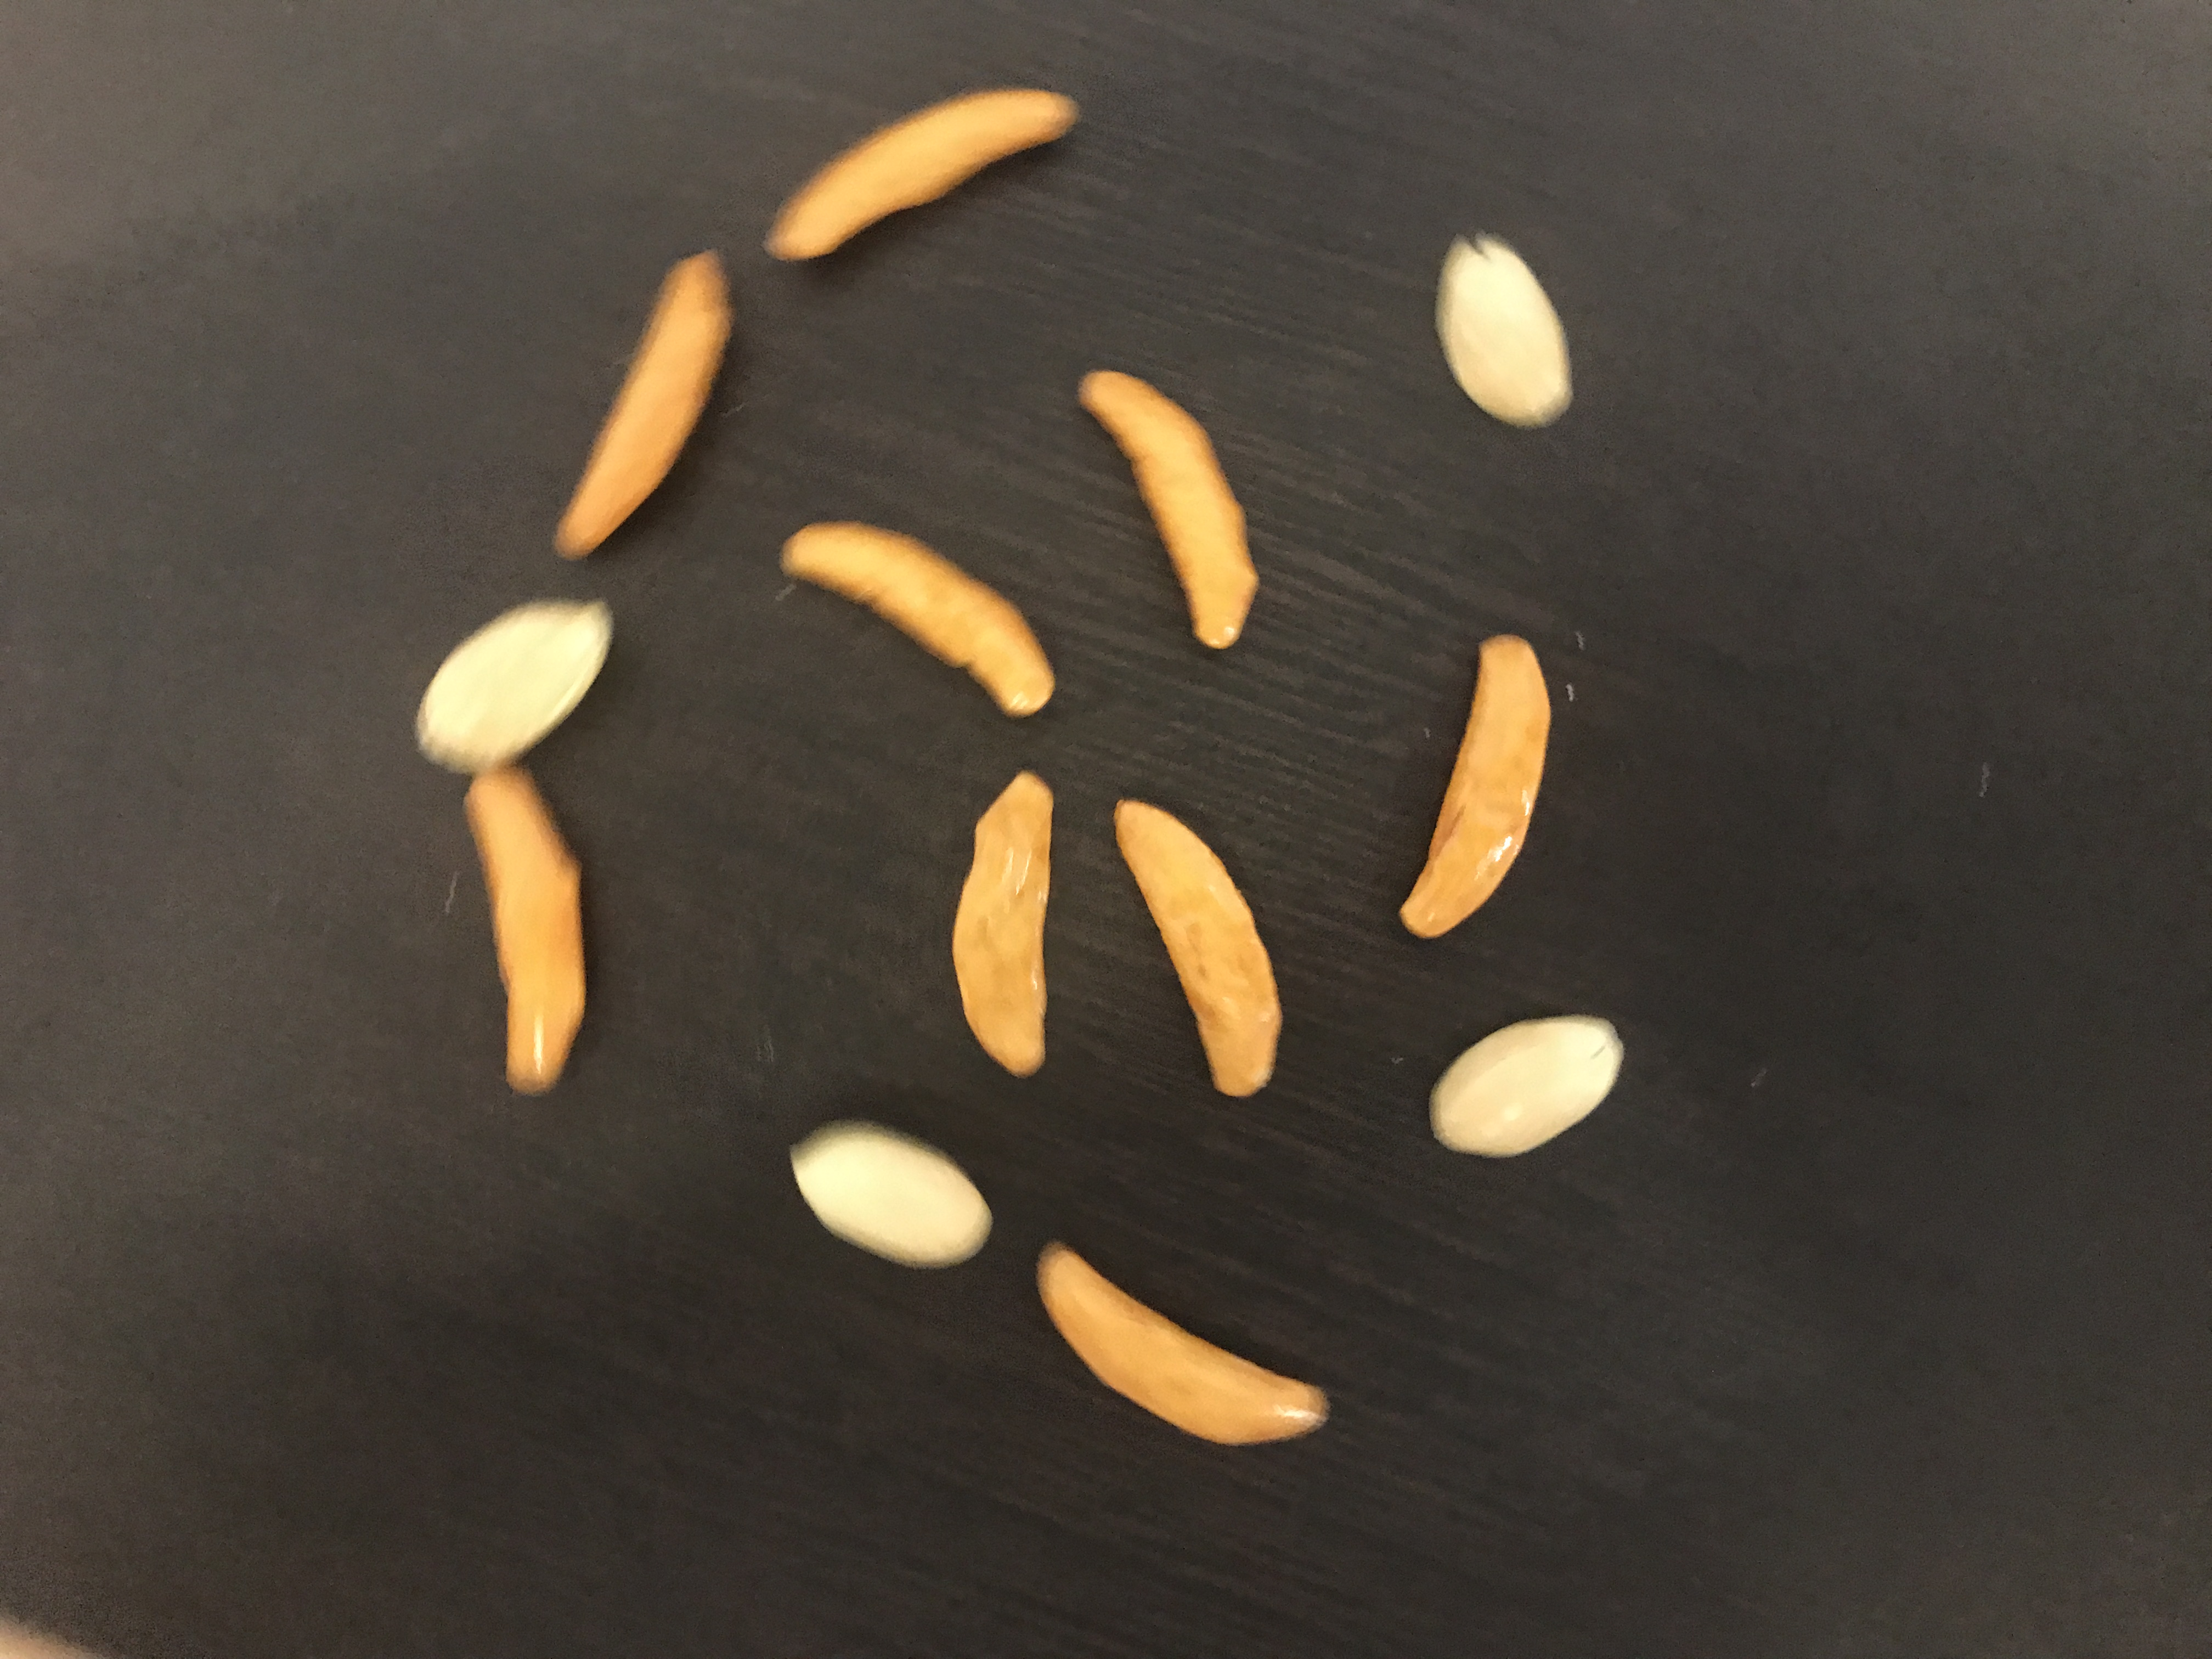peanut: (408, 594, 629, 777), (773, 1115, 1010, 1281), (1421, 221, 1599, 441), (1421, 1002, 1627, 1168)
